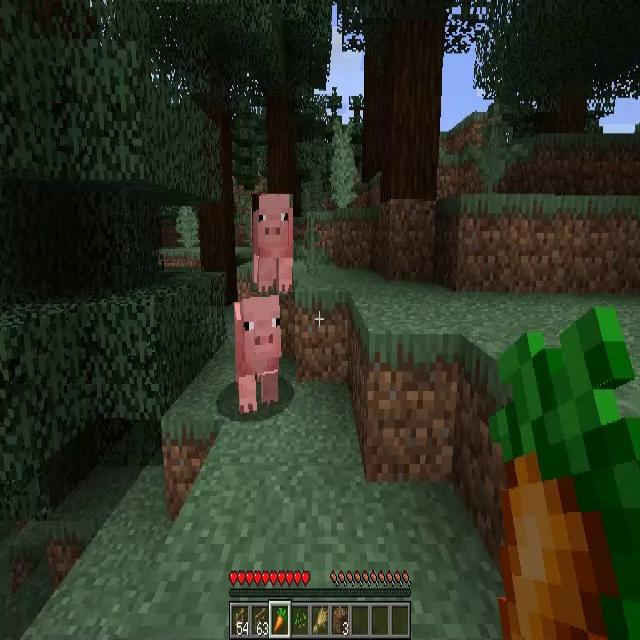pig: (234, 293, 280, 415), (252, 195, 293, 292)
